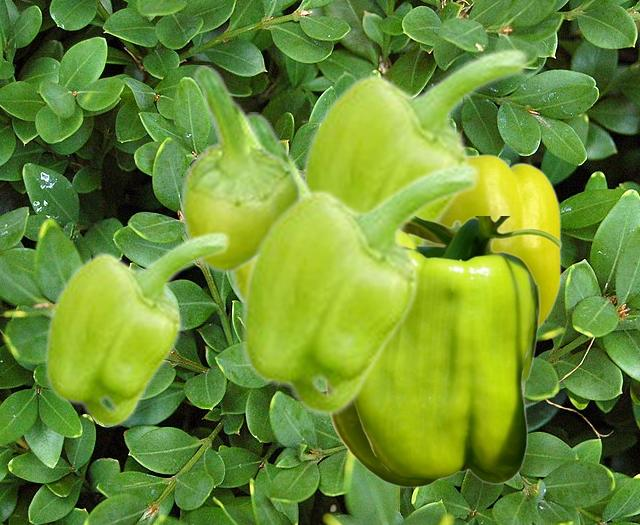bell_pepper: (330, 216, 561, 487), (239, 161, 481, 416), (299, 46, 529, 244), (43, 230, 230, 427), (179, 65, 304, 273), (427, 153, 560, 328), (227, 112, 313, 311)
